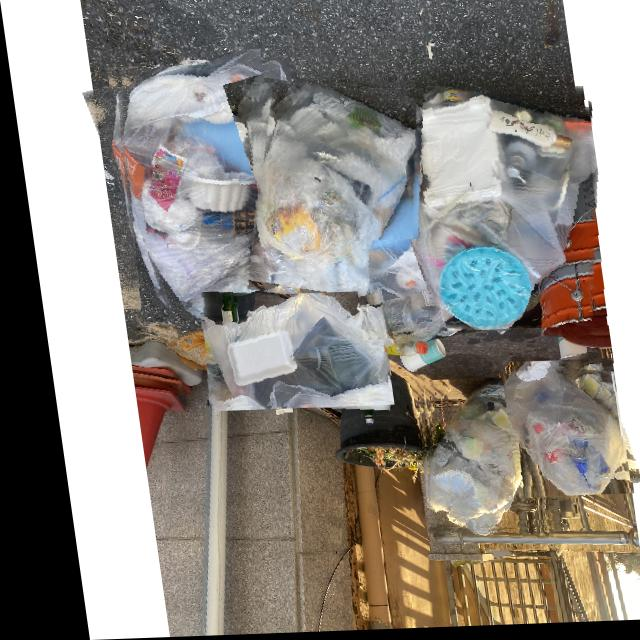general_trashbag: (215, 243, 216, 243)
other_trashbag: (409, 91, 591, 333), (117, 50, 271, 329), (253, 84, 413, 303), (196, 295, 377, 406), (413, 381, 531, 535), (493, 370, 613, 499), (351, 242, 434, 339)
